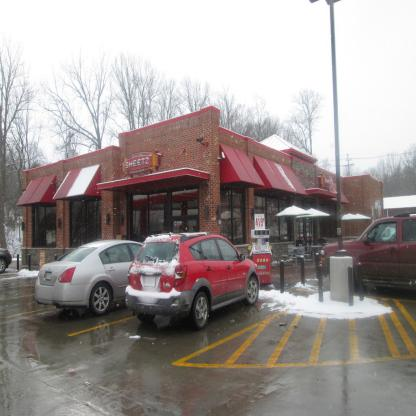Car: (128, 226, 260, 333), (34, 239, 160, 315), (317, 211, 415, 298)
